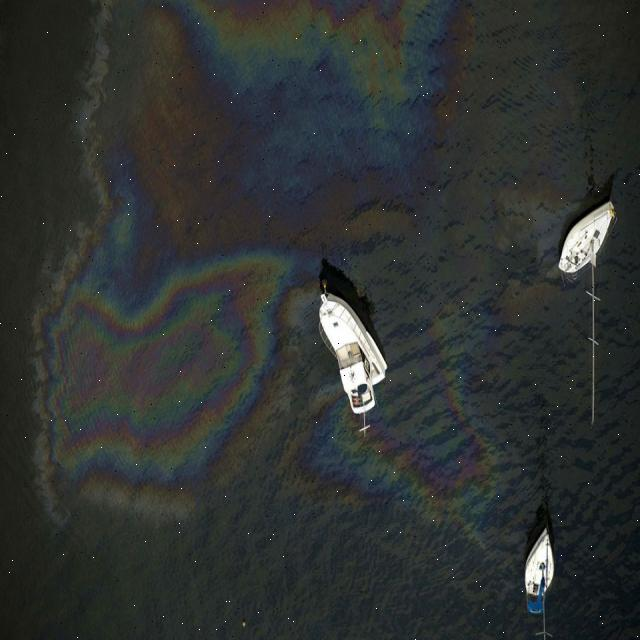rainbow: (175, 1, 453, 206), (45, 253, 290, 485), (350, 322, 496, 541)
